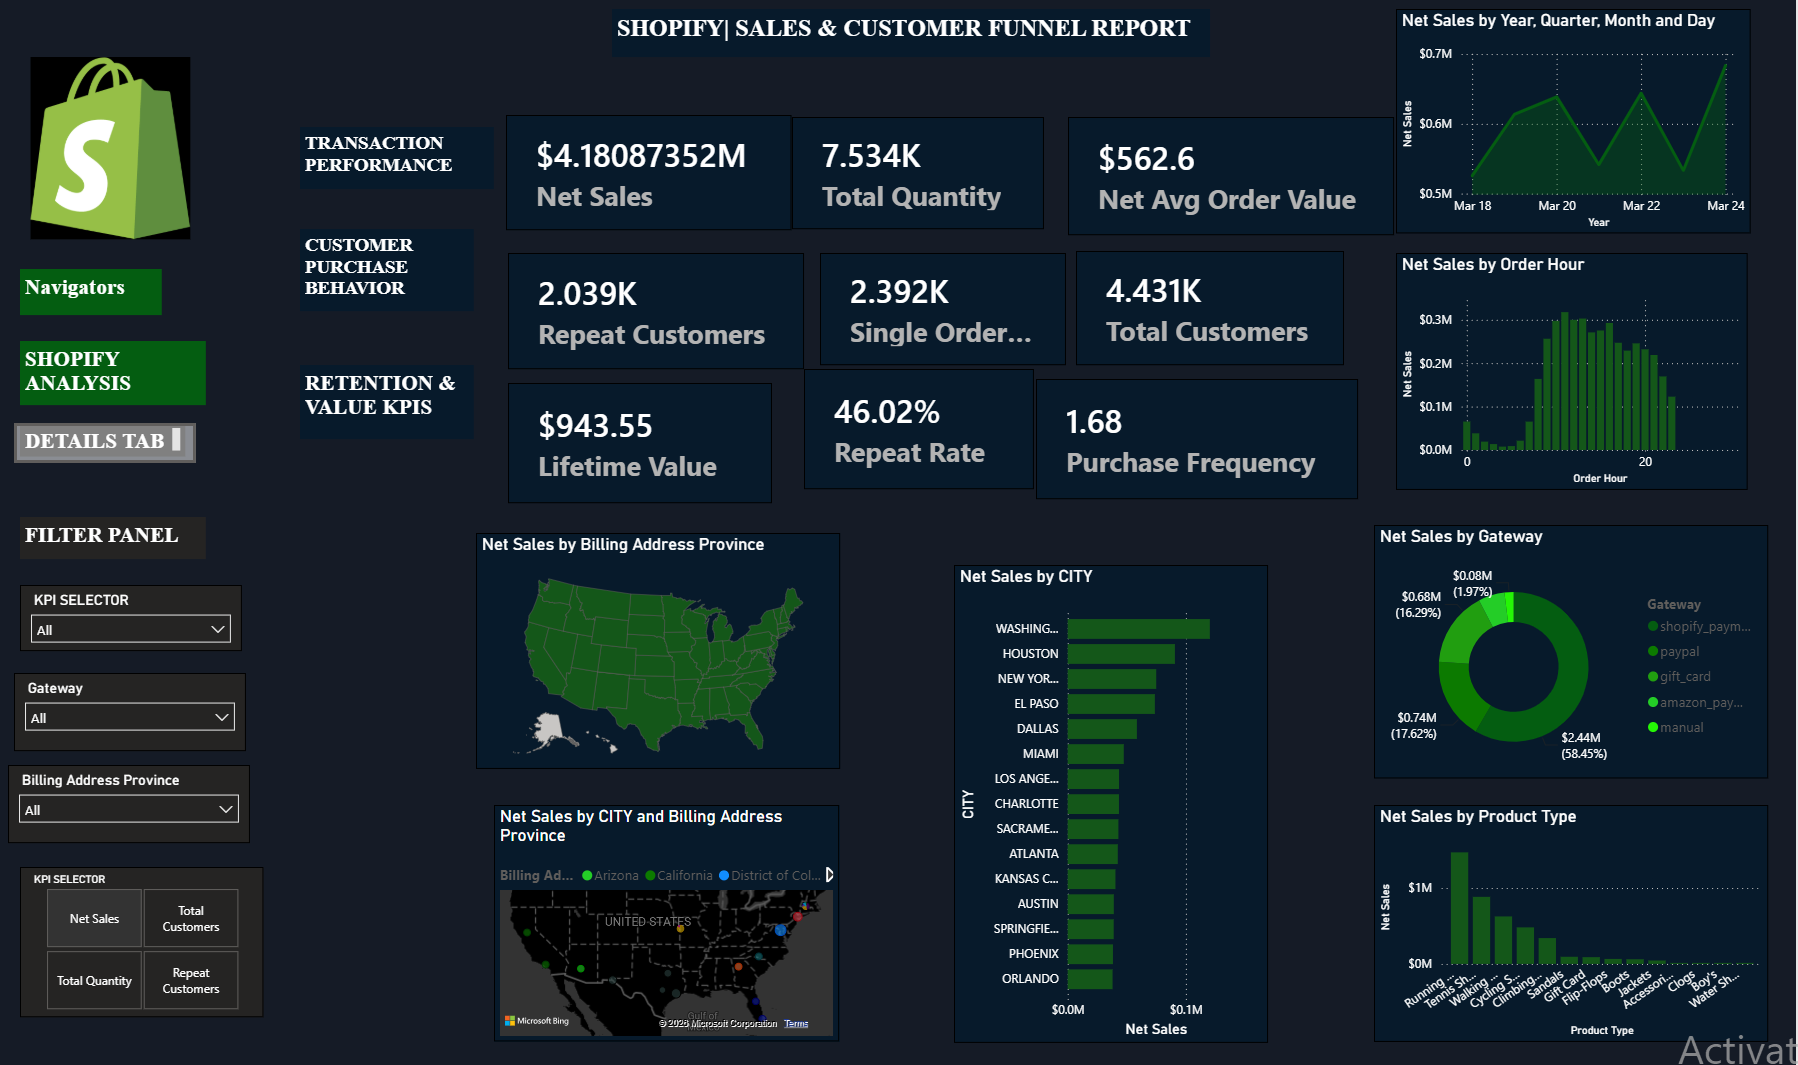

The dashboard page shown, as its layout file describes it:
{"tool":"powerbi","page":{"name":"Shopify ANALYSIS","canvas":[1794,1080],"ordinal":0},"visuals":[{"type":"cardVisual","fields":{"Data":["shopify_sales.Net Sales"]},"box":[508,127.5,284.8,114.8],"z":0},{"type":"cardVisual","fields":{"Data":["shopify_sales.Total Quantity"]},"box":[792.8,129.7,251.5,111.8],"z":1},{"type":"cardVisual","fields":{"Data":["DateTable.Net Avg Order Value"]},"box":[1067,129.7,325.4,117.8],"z":2},{"type":"cardVisual","fields":{"Data":["DateTable.Total Customers"]},"box":[1076,263.5,267.5,113.8],"z":3},{"type":"cardVisual","fields":{"Data":["DateTable.Single Order Customers"]},"box":[820.5,265.5,245.5,111.8],"z":4},{"type":"cardVisual","fields":{"Data":["DateTable.Repeat Customers"]},"box":[509.1,265.5,295.5,115.8],"z":5},{"type":"cardVisual","fields":{"Data":["DateTable.Lifetime Value"]},"box":[509.1,395.3,263.5,119.8],"z":6},{"type":"cardVisual","fields":{"Data":["DateTable.Repeat Rate"]},"box":[804.5,381.3,229.6,119.8],"z":7},{"type":"cardVisual","fields":{"Data":["DateTable.Purchase Frequency"]},"box":[1036.1,391.3,321.4,119.8],"z":8},{"type":"slicer","fields":{"Values":["KPI SELECTOR.KPI SELECTOR"]},"box":[22,878.4,243,150],"z":9},{"type":"areaChart","fields":{"Y":["shopify_sales.Net Sales"],"Category":["DateTable.Date.Variation.Date Hierarchy.Year","DateTable.Date.Variation.Date Hierarchy.Quarter","DateTable.Date.Variation.Date Hierarchy.Month","DateTable.Date.Variation.Date Hierarchy.Day"]},"box":[1395.6,22.2,353.9,224.2],"z":10},{"type":"clusteredColumnChart","fields":{"Category":["shopify_sales.Order Hour"],"Y":["shopify_sales.Net Sales"]},"box":[1395.4,265.5,351.2,236.6],"z":11},{"type":"shapeMap","fields":{"Category":["shopify_sales.Billing Address Province"],"Value":["shopify_sales.Net Sales"]},"box":[476.1,544.2,363.3,235.6],"z":12},{"type":"clusteredBarChart","fields":{"Category":["shopify_sales.CITY"],"Y":["shopify_sales.Net Sales"]},"box":[954.2,576.9,313.4,477.1],"z":13},{"type":"donutChart","fields":{"Category":["shopify_sales.Gateway"],"Y":["shopify_sales.Net Sales"]},"box":[1373.5,537,393.7,253.2],"z":14},{"type":"clusteredColumnChart","fields":{"Category":["shopify_sales.Product Type"],"Y":["shopify_sales.Net Sales"]},"box":[1373.5,816.5,393.7,236.6],"z":15},{"type":"image","box":[10,69.9,204.7,182],"z":16},{"type":"textbox","box":[22,281.5,141.7,45.9],"z":17},{"type":"textbox","box":[22,353.3,185.7,63.9],"z":18},{"type":"textbox","box":[22,435.2,165,33.3],"z":19},{"type":"textbox","box":[22,529,185.7,41.9],"z":20},{"type":"slicer","fields":{"Values":["KPI SELECTOR.KPI SELECTOR"]},"box":[22,596.9,221.6,65.9],"z":21},{"type":"slicer","fields":{"Values":["shopify_sales.Gateway"]},"box":[16,684.7,231.6,77.9],"z":22},{"type":"slicer","fields":{"Values":["shopify_sales.Billing Address Province"]},"box":[10,776.6,241.6,77.9],"z":23},{"type":"actionButton","box":[16,435.2,181.7,39.9],"z":24},{"type":"textbox","box":[612.9,22,596.9,47.9],"z":25},{"type":"textbox","box":[301.4,139.7,193.6,61.9],"z":26},{"type":"textbox","box":[301.4,241.6,173.7,81.8],"z":27},{"type":"textbox","box":[301.4,377.3,173.7,73.9],"z":28},{"type":"map","fields":{"Category":["shopify_sales.CITY"],"Size":["shopify_sales.Net Sales"],"Series":["shopify_sales.Billing Address Province"]},"box":[495.3,816.2,344.3,235.9],"z":29}]}

Visuals, with their boxes on the page's 1794x1080 design canvas (x1, y1, x2, y2). These are canvas units, not pixel positions in the 1798x1065 screenshot, which may show the page scaled, cropped or inside an application window:
cardVisual - shopify_sales.Net Sales: 508/128/793/242
cardVisual - shopify_sales.Total Quantity: 793/130/1044/242
cardVisual - DateTable.Net Avg Order Value: 1067/130/1392/248
cardVisual - DateTable.Total Customers: 1076/264/1344/377
cardVisual - DateTable.Single Order Customers: 820/266/1066/377
cardVisual - DateTable.Repeat Customers: 509/266/805/381
cardVisual - DateTable.Lifetime Value: 509/395/773/515
cardVisual - DateTable.Repeat Rate: 804/381/1034/501
cardVisual - DateTable.Purchase Frequency: 1036/391/1358/511
slicer - KPI SELECTOR.KPI SELECTOR: 22/878/265/1028
areaChart - shopify_sales.Net Sales x DateTable.Date.Variation.Date Hierarchy.Year: 1396/22/1750/246
clusteredColumnChart - shopify_sales.Order Hour x shopify_sales.Net Sales: 1395/266/1747/502
shapeMap - shopify_sales.Billing Address Province x shopify_sales.Net Sales: 476/544/839/780
clusteredBarChart - shopify_sales.CITY x shopify_sales.Net Sales: 954/577/1268/1054
donutChart - shopify_sales.Gateway x shopify_sales.Net Sales: 1374/537/1767/790
clusteredColumnChart - shopify_sales.Product Type x shopify_sales.Net Sales: 1374/816/1767/1053
image: 10/70/215/252
textbox: 22/282/164/327
textbox: 22/353/208/417
textbox: 22/435/187/468
textbox: 22/529/208/571
slicer - KPI SELECTOR.KPI SELECTOR: 22/597/244/663
slicer - shopify_sales.Gateway: 16/685/248/763
slicer - shopify_sales.Billing Address Province: 10/777/252/854
actionButton: 16/435/198/475
textbox: 613/22/1210/70
textbox: 301/140/495/202
textbox: 301/242/475/323
textbox: 301/377/475/451
map - shopify_sales.CITY x shopify_sales.Net Sales: 495/816/840/1052
